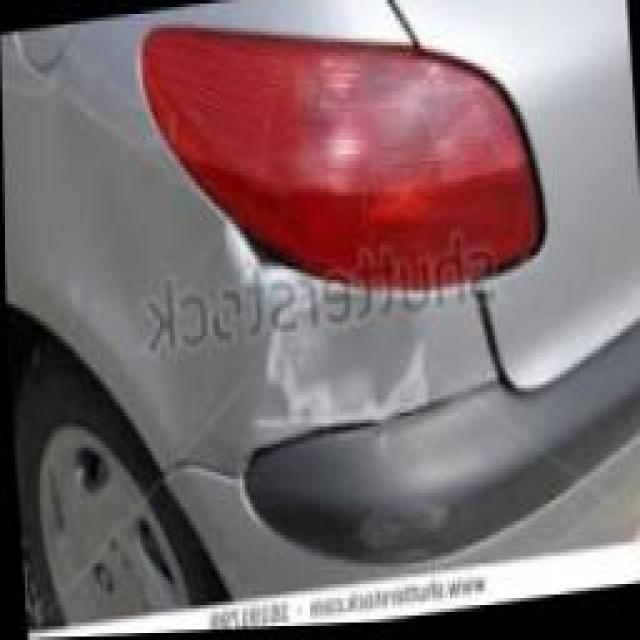Fender: (160, 211, 487, 468)
